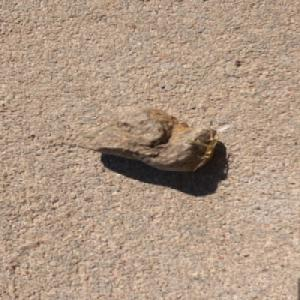Rock: (74, 104, 219, 173)
